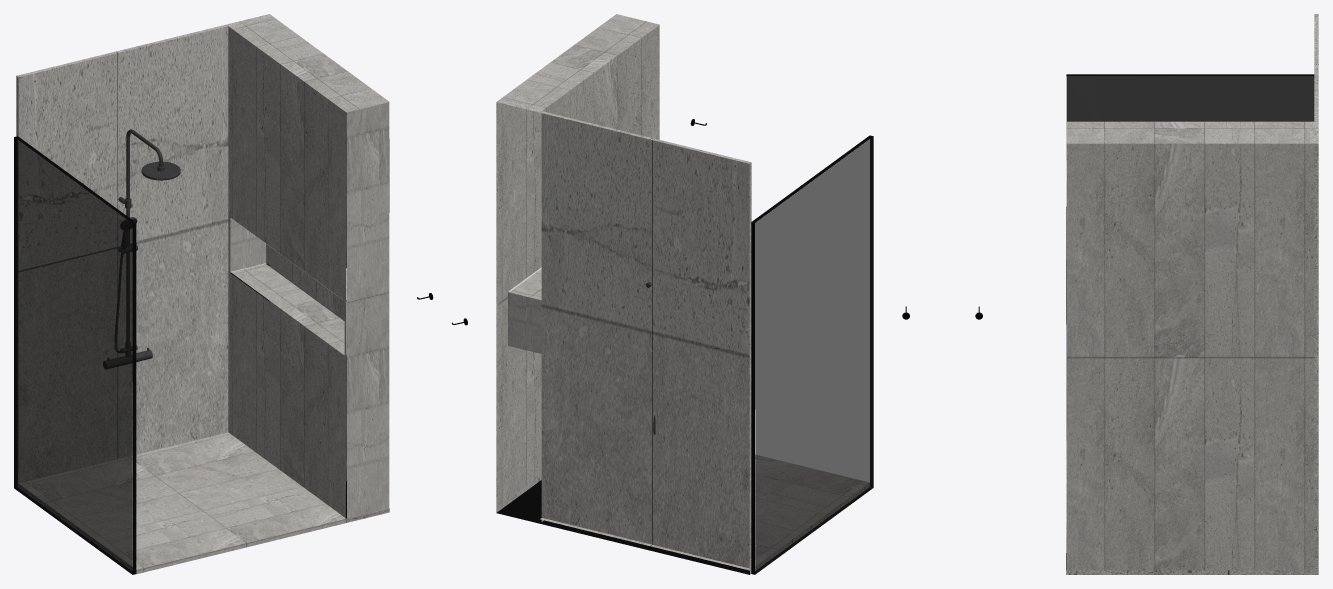
File: bathroom.fbx
3 views of the same model, side by side, from view 1: azimuth 30°, elevation 25°; view 2: azimuth 150°, elevation 25°; view 3: azimuth 270°, elevation 25° (orthographic). The views are drawn at different scales.
Parts seen in each view (by area): view 1: object 1, object 2, Dusch_16; view 2: object 1, object 2; view 3: object 1, object 2.
Boxes of the visible parts, x1,y1,x2,y2 form: object 1: [16, 14, 389, 573]; object 2: [14, 136, 136, 574]; Dusch_16: [103, 129, 180, 369]; object 1: [496, 14, 869, 574]; object 2: [751, 135, 873, 574]; object 1: [1066, 14, 1318, 574]; object 2: [1066, 74, 1314, 440].
Bounding box in the file's own units: 152 × 232 × 203.
11 materials, 6 textured.
